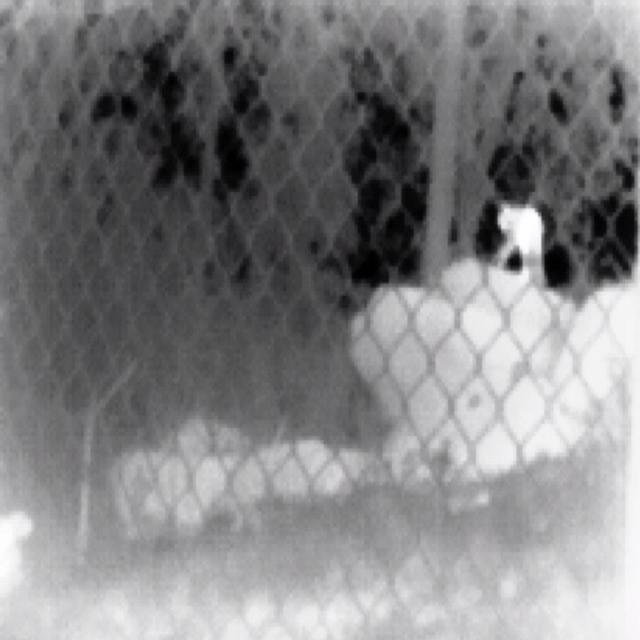cheetah: (499, 205, 544, 287)
